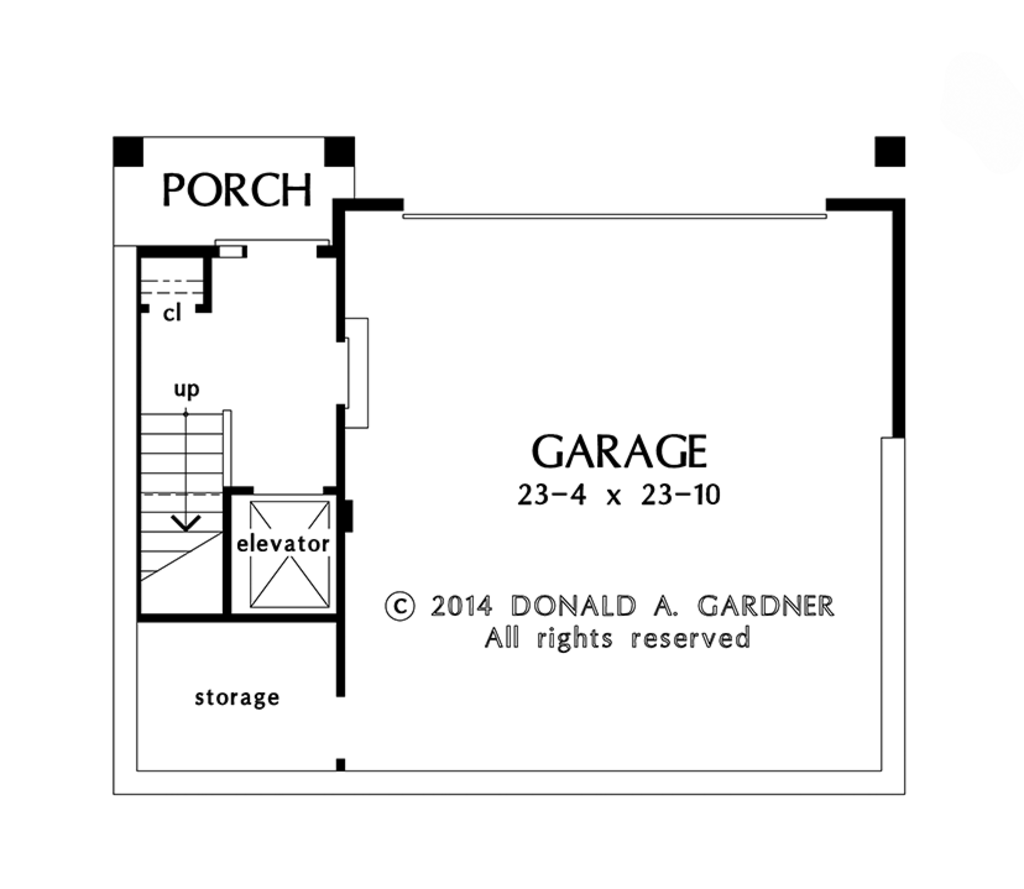stairs: (139, 375, 240, 612)
